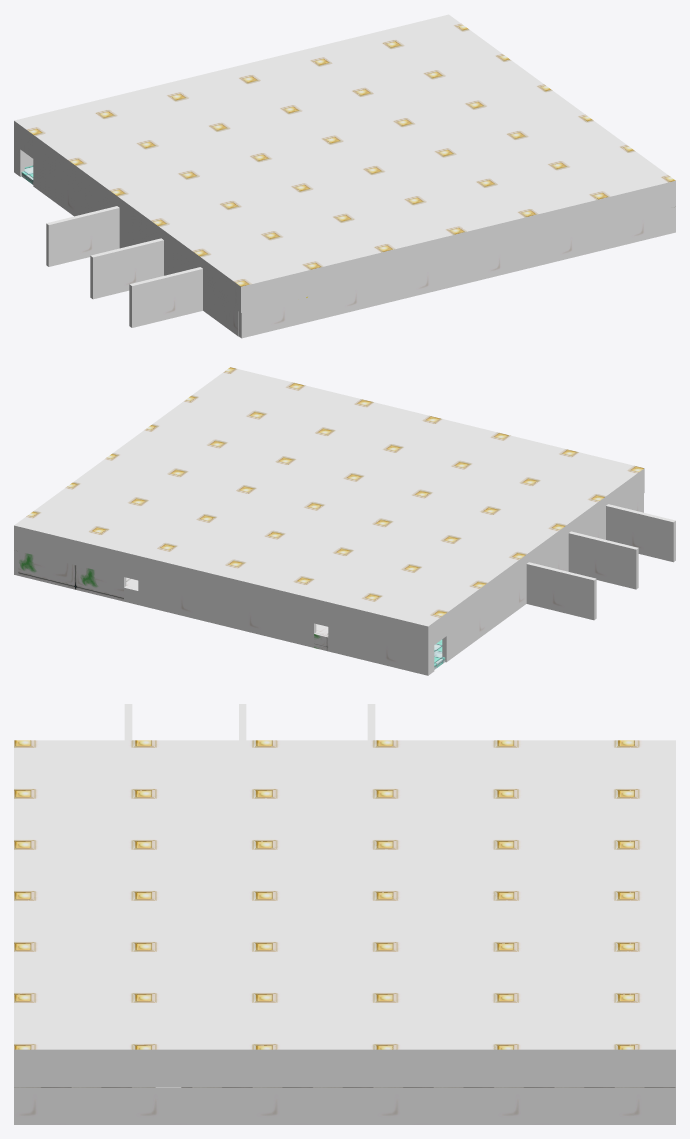
File: intro14_brush.glb
The picture shows the model from 3 angles, top to bottom: view 1: azimuth 30°, elevation 25°; view 2: azimuth 150°, elevation 25°; view 3: azimuth 270°, elevation 25°; orthographic projection. The views are drawn at different scales.
Visible parts, largest first — view 1: intro14; view 2: intro14; view 3: intro14.
Part boxes in pixels (x1=…): intro14: x1=14, y1=14, x2=675, y2=338; intro14: x1=14, y1=367, x2=675, y2=675; intro14: x1=14, y1=704, x2=675, y2=1124.
Size of the model in its own units: 1806 by 176 by 1404.
11 materials, 11 textured.
